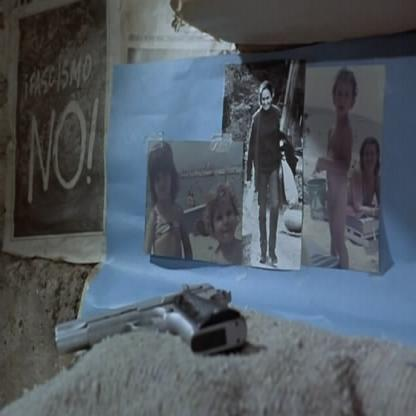gun: (44, 293, 249, 357)
